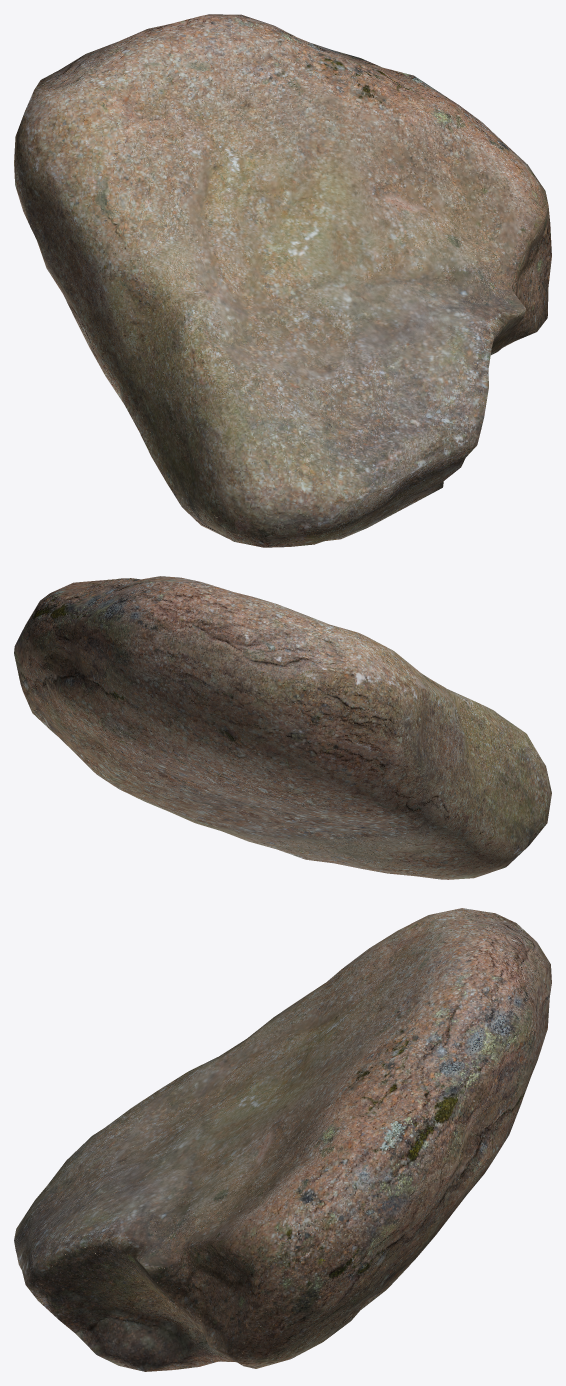
The model's file is Rock_19_LOD2.fbx.
The picture shows the model from 3 angles, top to bottom: view 1: azimuth 30°, elevation 25°; view 2: azimuth 150°, elevation 25°; view 3: azimuth 270°, elevation 25°; orthographic projection. The views are drawn at different scales.
Parts seen in each view (by area): view 1: Model; view 2: Model; view 3: Model.
Boxes of the visible parts, x1,y1,x2,y2 form: Model: [14, 14, 551, 547]; Model: [14, 576, 551, 879]; Model: [14, 908, 551, 1371].
Bounding box in the file's own units: 19.22 × 15.51 × 18.81.
